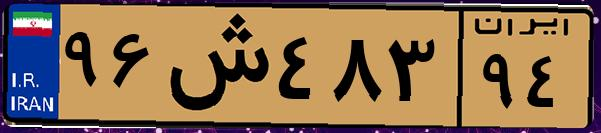3: (385, 28, 445, 110)
4: (270, 28, 330, 110), (525, 38, 570, 115)
6: (110, 28, 158, 98)
8: (330, 28, 385, 110)
9: (57, 26, 110, 100), (475, 38, 525, 113)
ش: (158, 12, 270, 120)
